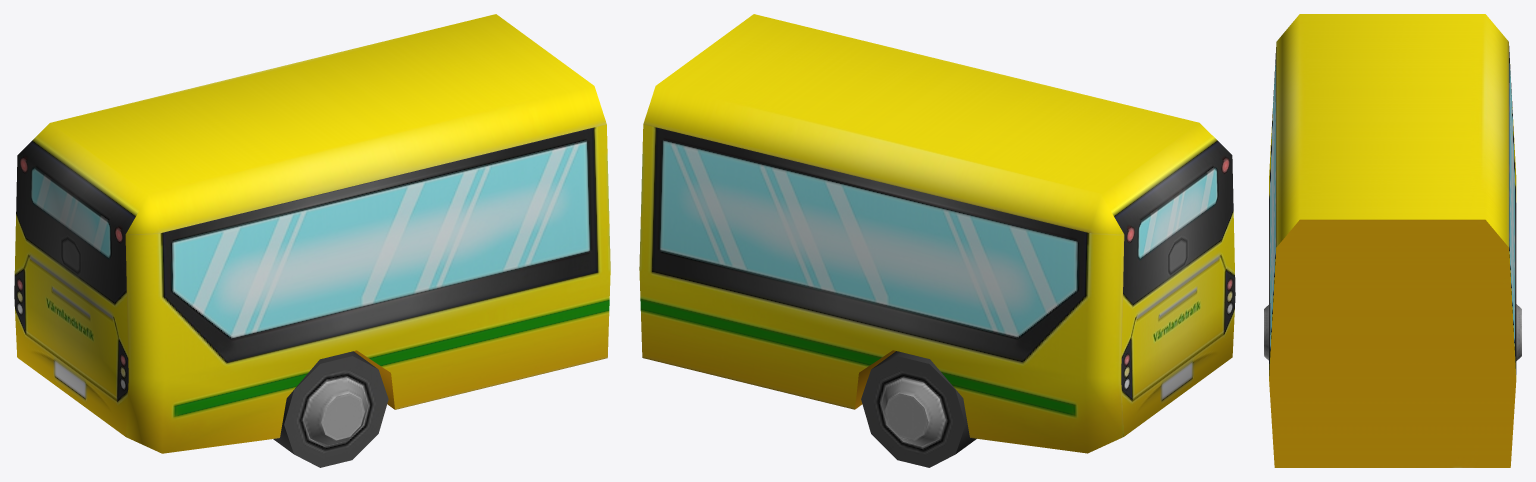
Rendered from buss_bak.gltf.
3 renders of one model, left to right at view 1: azimuth 30°, elevation 25°; view 2: azimuth 150°, elevation 25°; view 3: azimuth 270°, elevation 25°, orthographic. The views are drawn at different scales.
Parts seen in each view (by area): view 1: buss_bak1; view 2: buss_bak1; view 3: buss_bak1.
Part boxes in pixels (x1,y1,x2,y2): buss_bak1: (14, 14, 610, 467); buss_bak1: (639, 14, 1235, 467); buss_bak1: (1264, 14, 1521, 467).
Size of the model in its own units: 0.03 by 0.0183 by 0.0149.
1 material, 1 textured.
